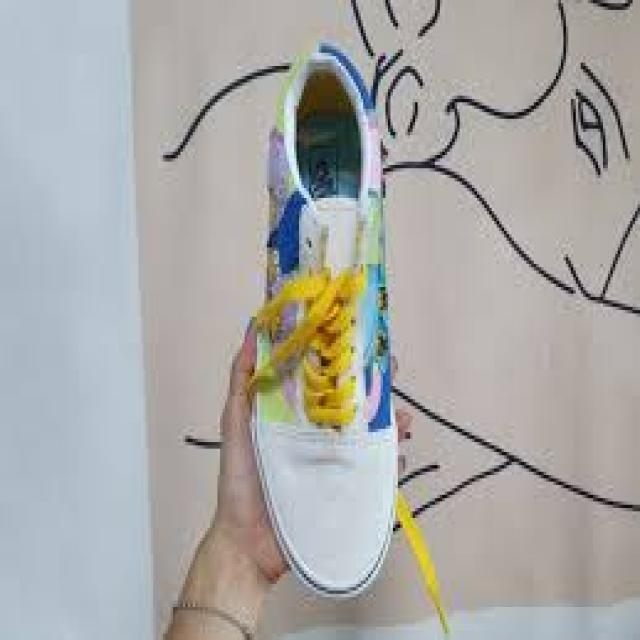shoe: (244, 40, 409, 604)
